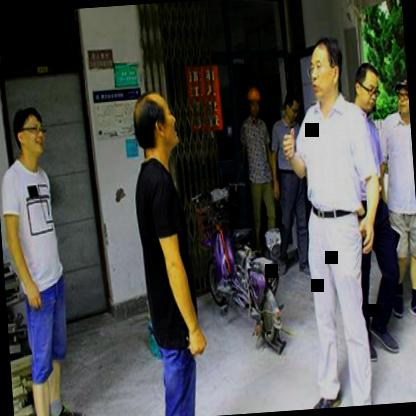head: (131, 90, 176, 164), (306, 31, 342, 100), (11, 105, 51, 162), (350, 57, 386, 114), (283, 89, 303, 128), (393, 75, 410, 119)
helmet: (244, 81, 264, 121)
